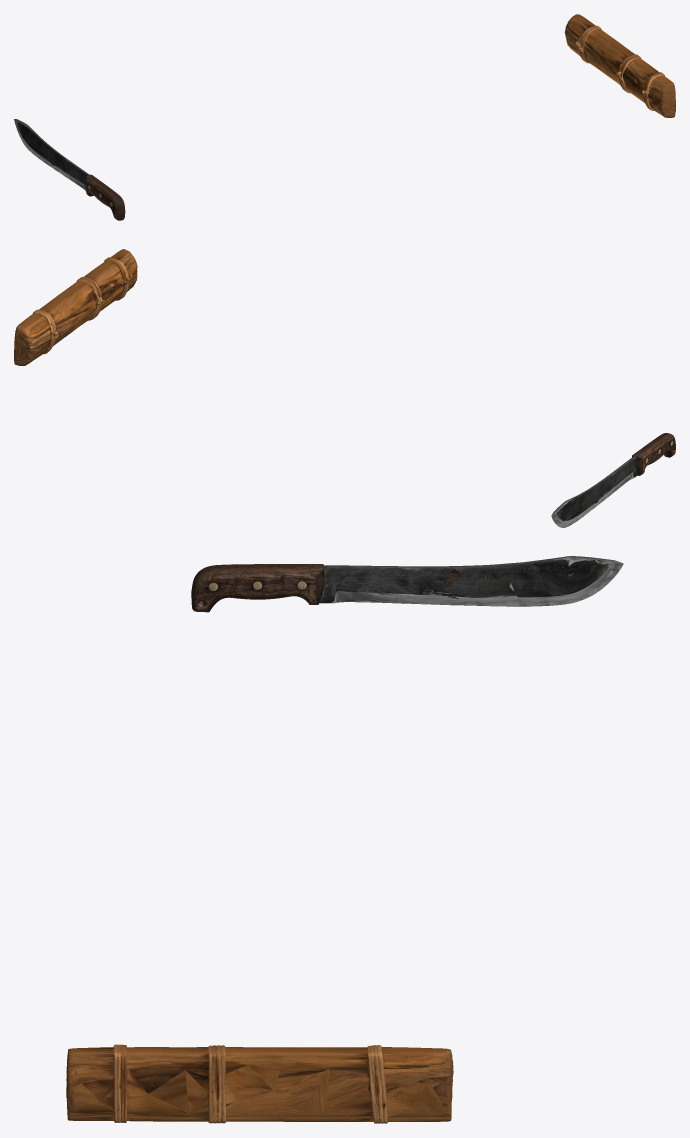
Rendered from machete.glb.
3 views of the same model, one above another, from view 1: azimuth 30°, elevation 25°; view 2: azimuth 150°, elevation 25°; view 3: azimuth 270°, elevation 25° (orthographic). The views are drawn at different scales.
Parts seen in each view (by area): view 1: ForestSheath, ForestMachete; view 2: ForestSheath, ForestMachete; view 3: ForestSheath, ForestMachete.
Boxes of the visible parts, bbox=[...] form: ForestSheath: bbox=[564, 14, 675, 117]; ForestMachete: bbox=[14, 119, 125, 220]; ForestSheath: bbox=[14, 249, 137, 365]; ForestMachete: bbox=[551, 433, 675, 527]; ForestSheath: bbox=[66, 1044, 453, 1123]; ForestMachete: bbox=[191, 556, 623, 612].
Bounding box in the file's own units: 6.2 × 0.399 × 2.82.
Materials: 2 (2 with a texture image).
